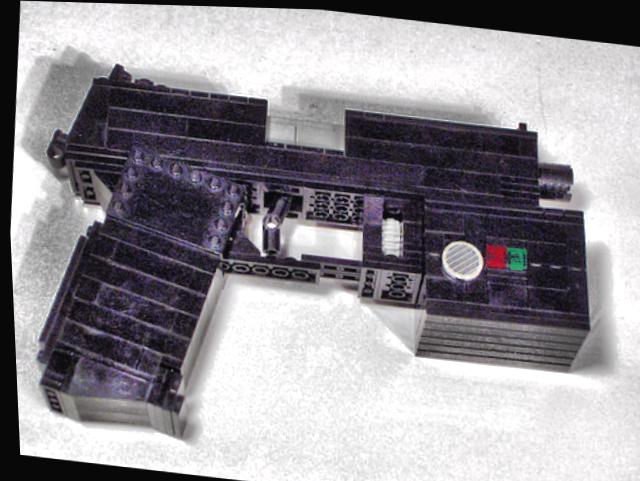pistol: (10, 50, 609, 479)
